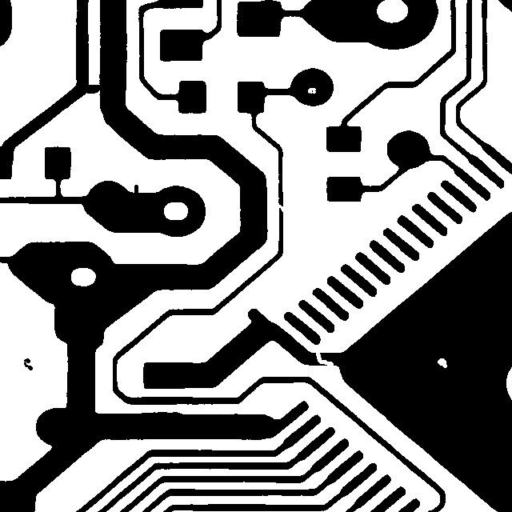copper: (16, 350, 40, 378)
open: (308, 342, 341, 374), (268, 197, 294, 220)
pin-hole: (430, 350, 454, 375), (300, 80, 323, 101)
short: (78, 77, 111, 101)
spur: (126, 177, 146, 203)
